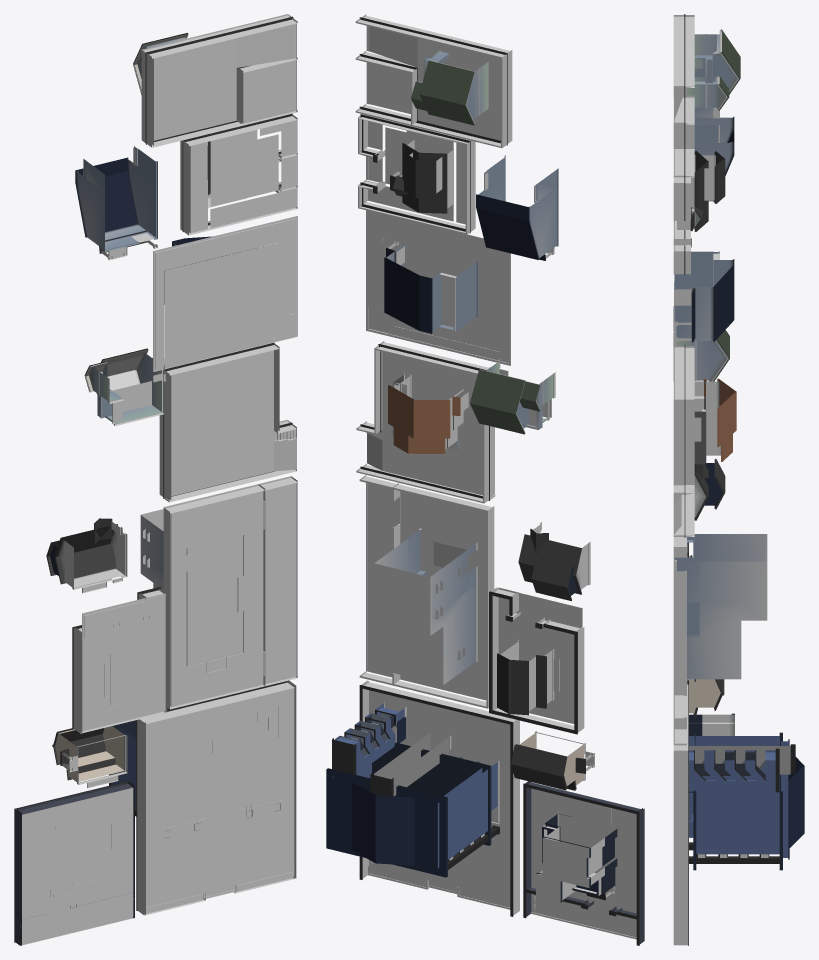
File: SM_000275_merge_w40h101_atlas1_1_5_ground_lv4.fbx
The picture shows the model from 3 angles, left to right: view 1: azimuth 30°, elevation 25°; view 2: azimuth 150°, elevation 25°; view 3: azimuth 270°, elevation 25°; orthographic projection.
Parts seen in each view (by area): view 1: SM_000275.001; view 2: SM_000275.001; view 3: SM_000275.001.
Boxes of the visible parts, x1,y1,x2,y2 form: SM_000275.001: [14, 14, 297, 945]; SM_000275.001: [326, 14, 644, 945]; SM_000275.001: [673, 14, 804, 945].
Bounding box in the file's own units: 41.69 × 123 × 16.97.
